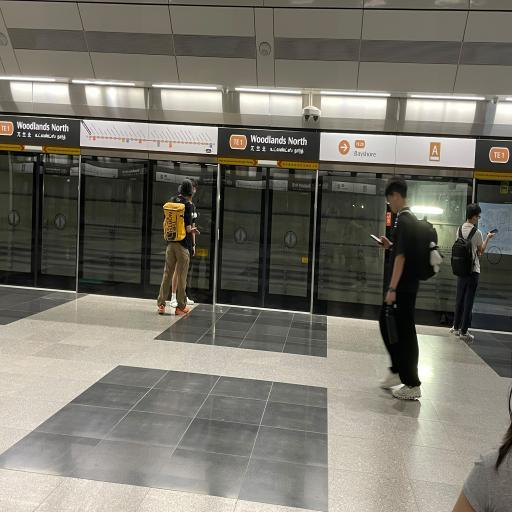person_left: (368, 172, 442, 404)
